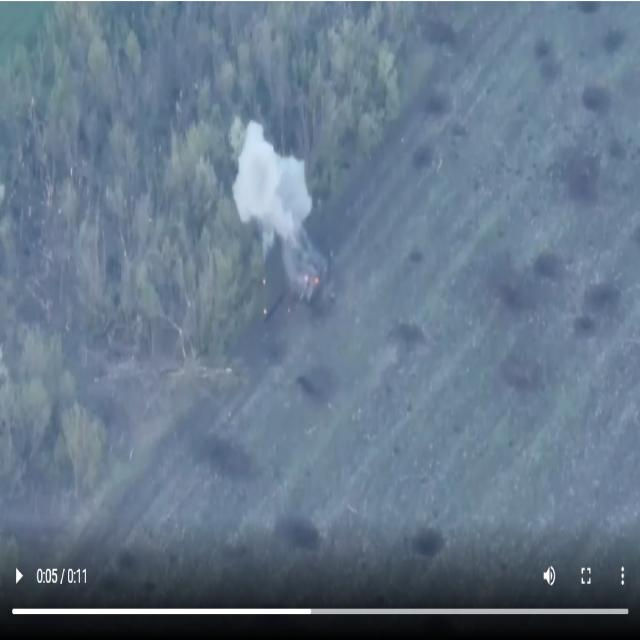destroyed: (296, 268, 322, 307)
